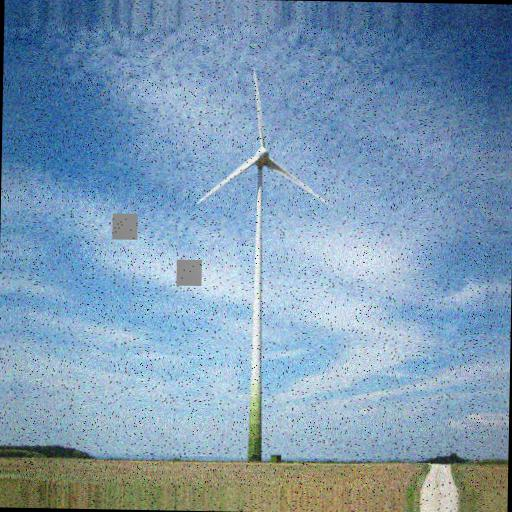wind turbine: (196, 70, 330, 457)
